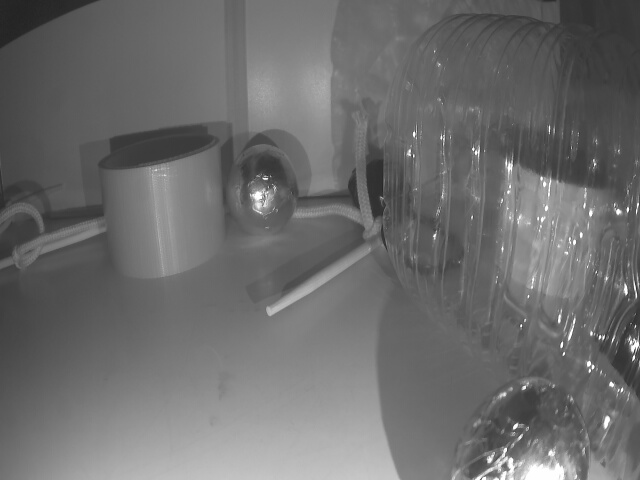Live: (450, 382, 586, 480), (228, 145, 297, 236)
